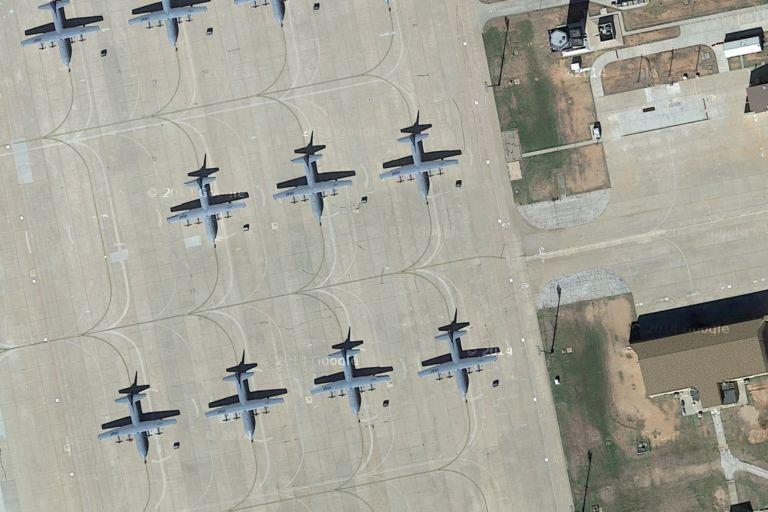C-130: (203, 368, 287, 443), (310, 345, 395, 417), (97, 388, 179, 461), (415, 326, 499, 397), (375, 129, 460, 199), (162, 174, 249, 242), (19, 1, 108, 63), (271, 152, 353, 218), (123, 2, 210, 45)
